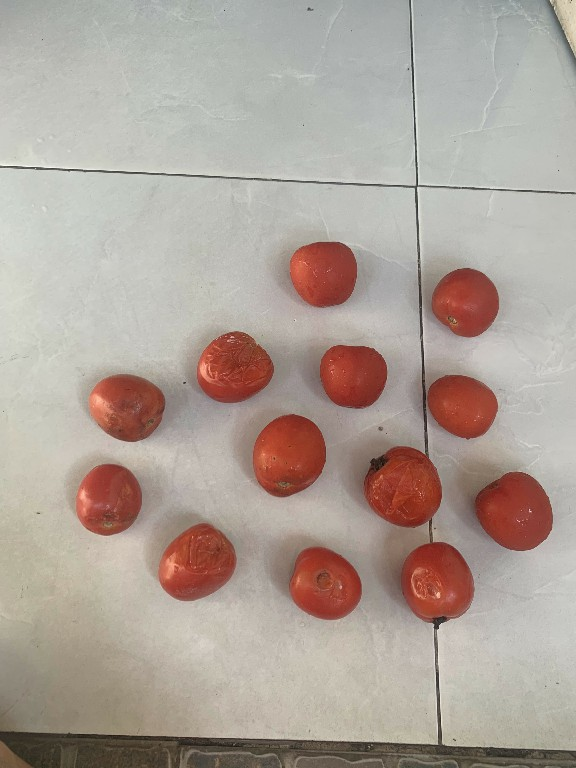NG: (360, 442, 446, 534), (394, 538, 478, 628), (157, 519, 241, 606), (85, 369, 176, 448), (283, 542, 366, 628), (190, 322, 278, 402), (70, 454, 145, 537)
OK: (470, 466, 564, 559), (250, 414, 332, 503), (423, 369, 502, 443), (286, 233, 361, 309), (430, 259, 499, 338), (315, 339, 387, 413)
